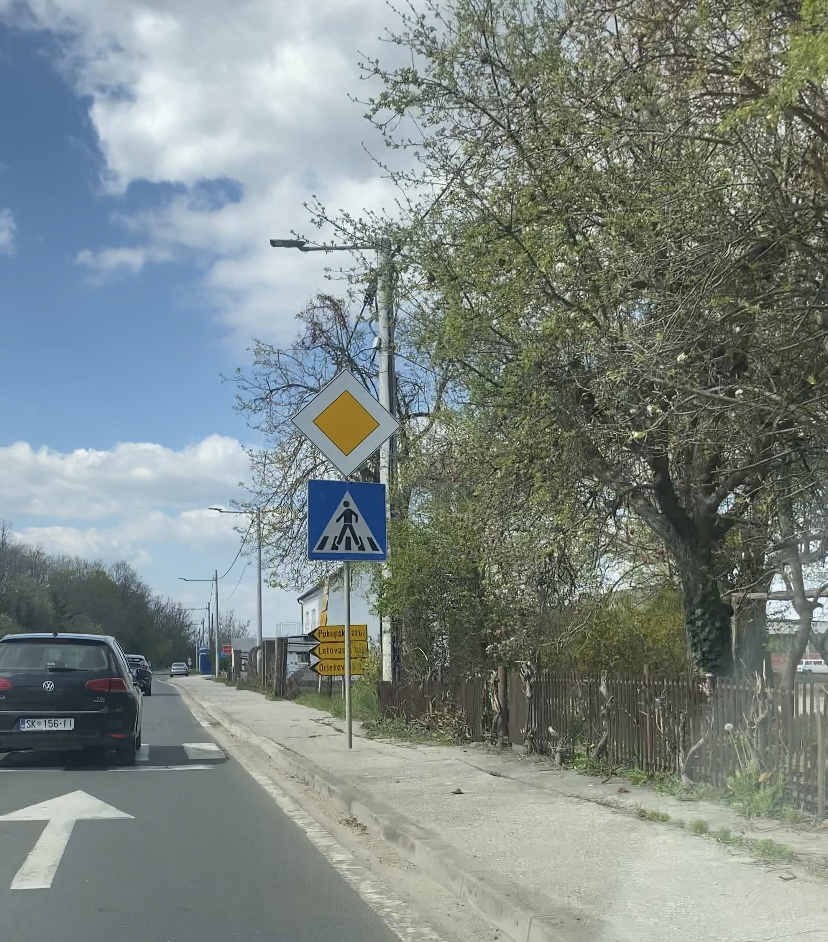Cesta s prednošću prolaska: (291, 368, 400, 478)
Pješački prijelaz: (307, 479, 387, 562)
